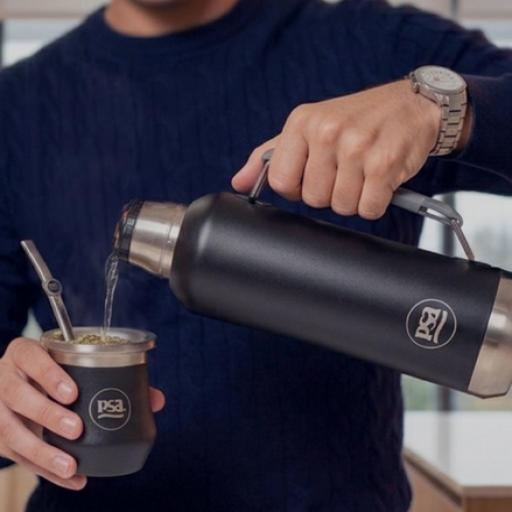mate: (35, 319, 159, 477)
termo: (115, 152, 511, 397)
